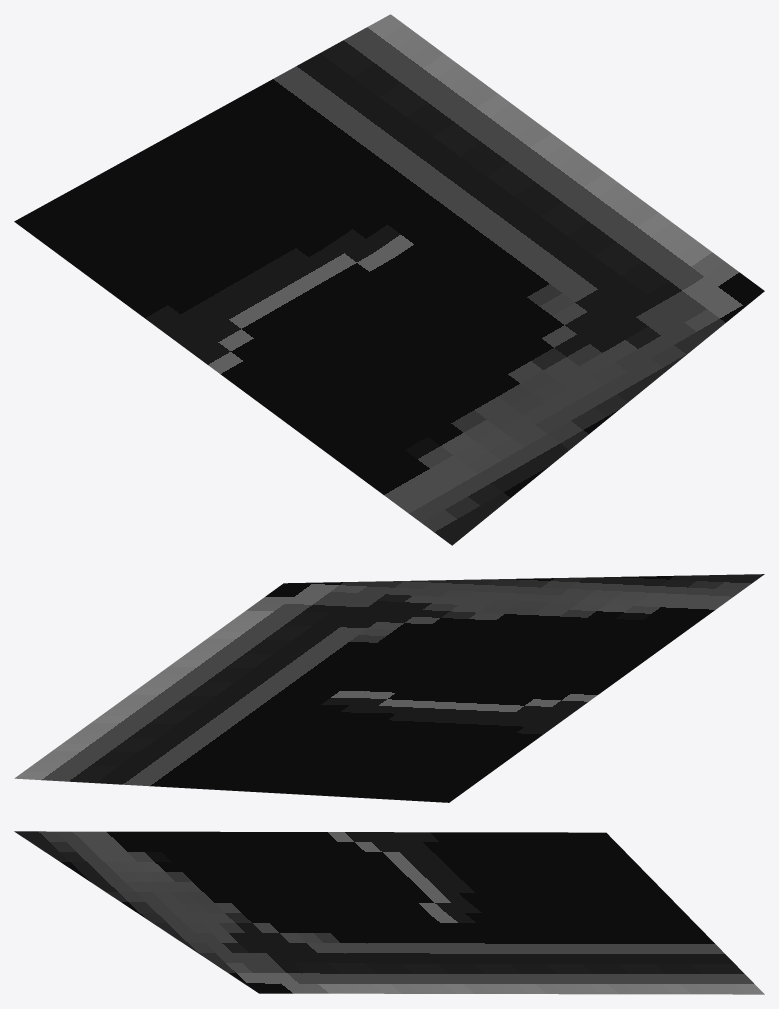
The model's file is pp7_secondary.glb.
The picture shows the model from 3 angles, top to bottom: view 1: azimuth 30°, elevation 25°; view 2: azimuth 150°, elevation 25°; view 3: azimuth 270°, elevation 25°; orthographic projection. The views are drawn at different scales.
Visible parts, largest first — view 1: Object; view 2: Object; view 3: Object.
Part boxes in pixels (box(x1,y1,x2,y2)): Object: box(14, 14, 764, 545); Object: box(14, 574, 764, 802); Object: box(14, 831, 764, 994).
Bounding box in the file's own units: 0.0354 × 1.7e-06 × 0.0688.
1 material, 1 textured.
